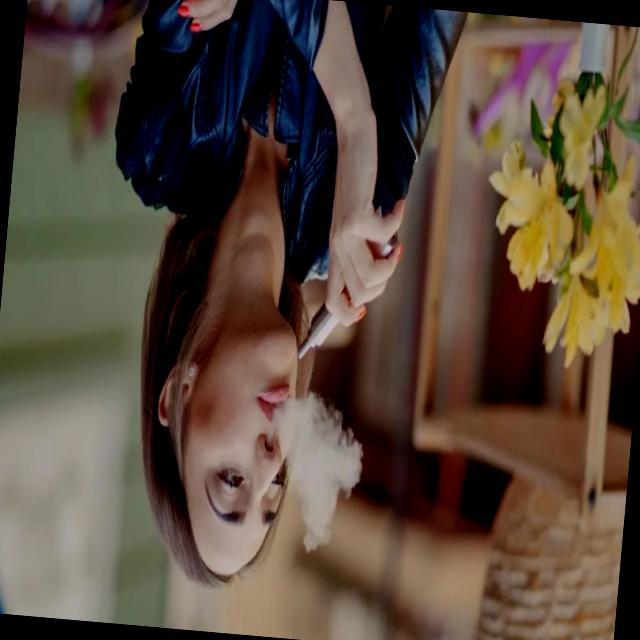cigarette: (293, 210, 401, 372)
